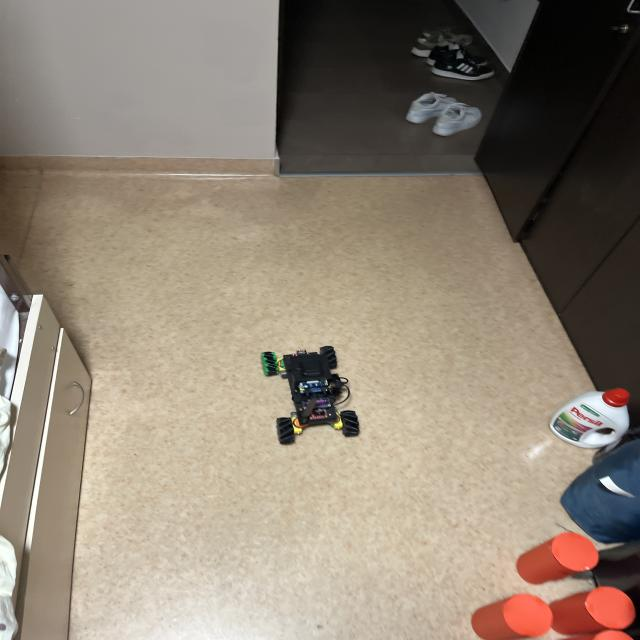robot: (261, 346, 359, 444)
